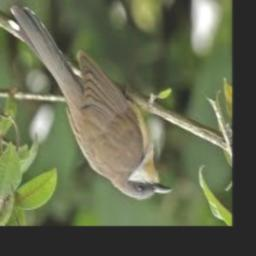Cuckoo: (9, 6, 173, 201)
